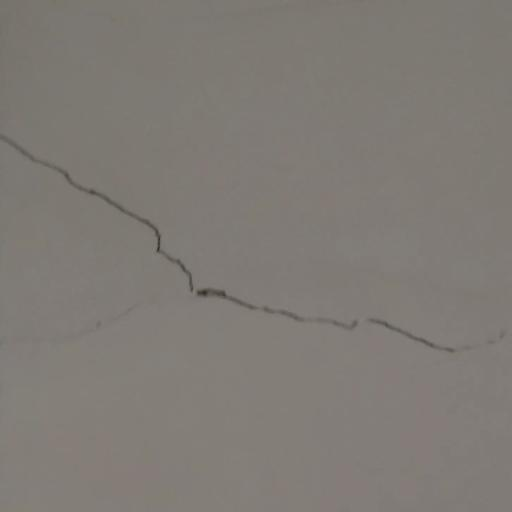major_crack: (0, 109, 504, 363)
